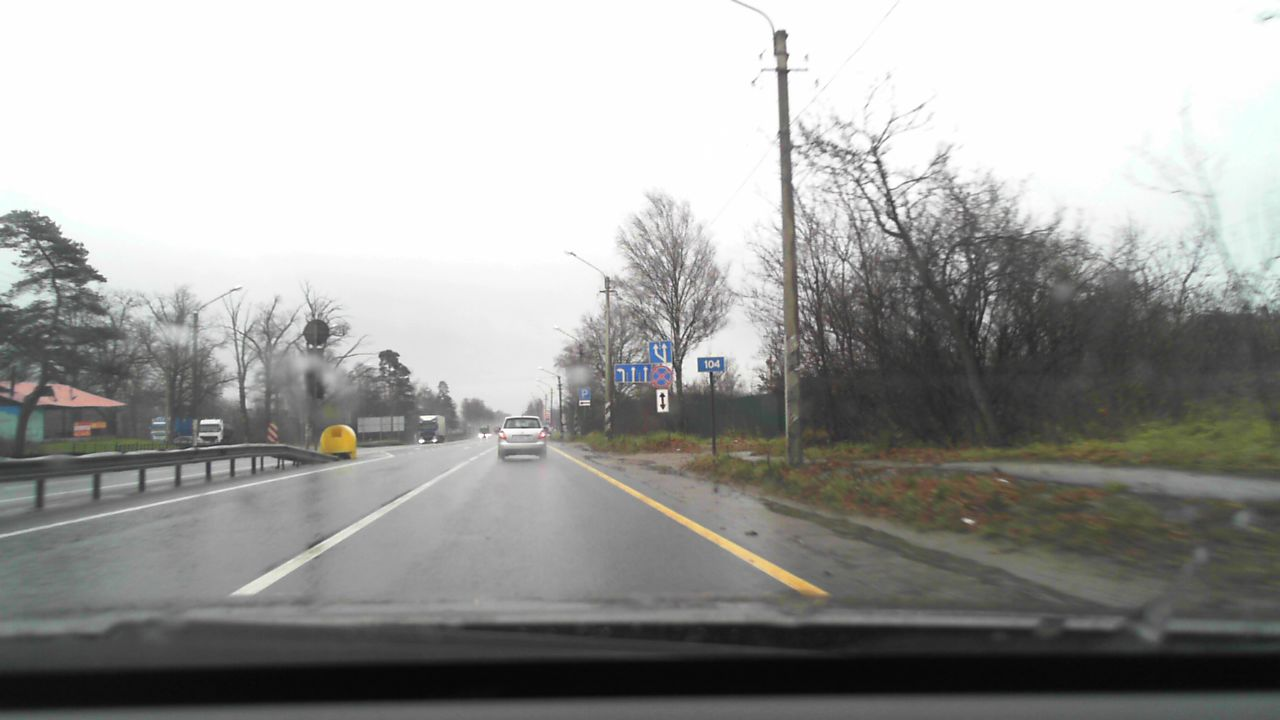No Parking: (650, 365, 672, 388)
